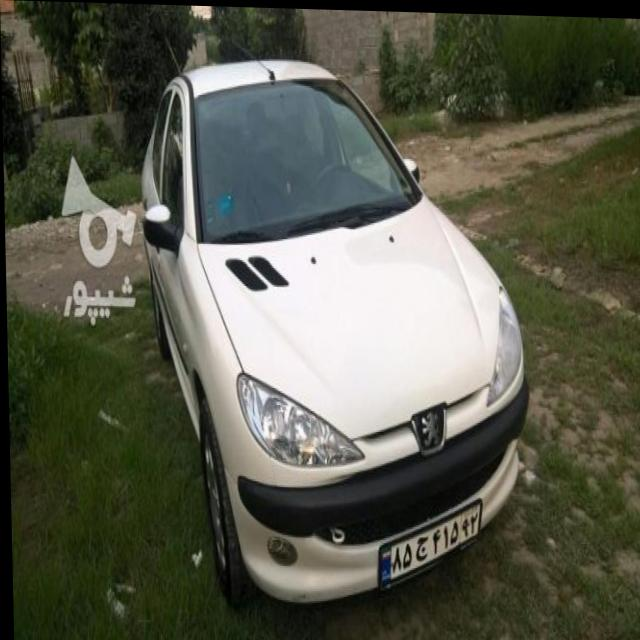licence: (374, 493, 476, 588)
